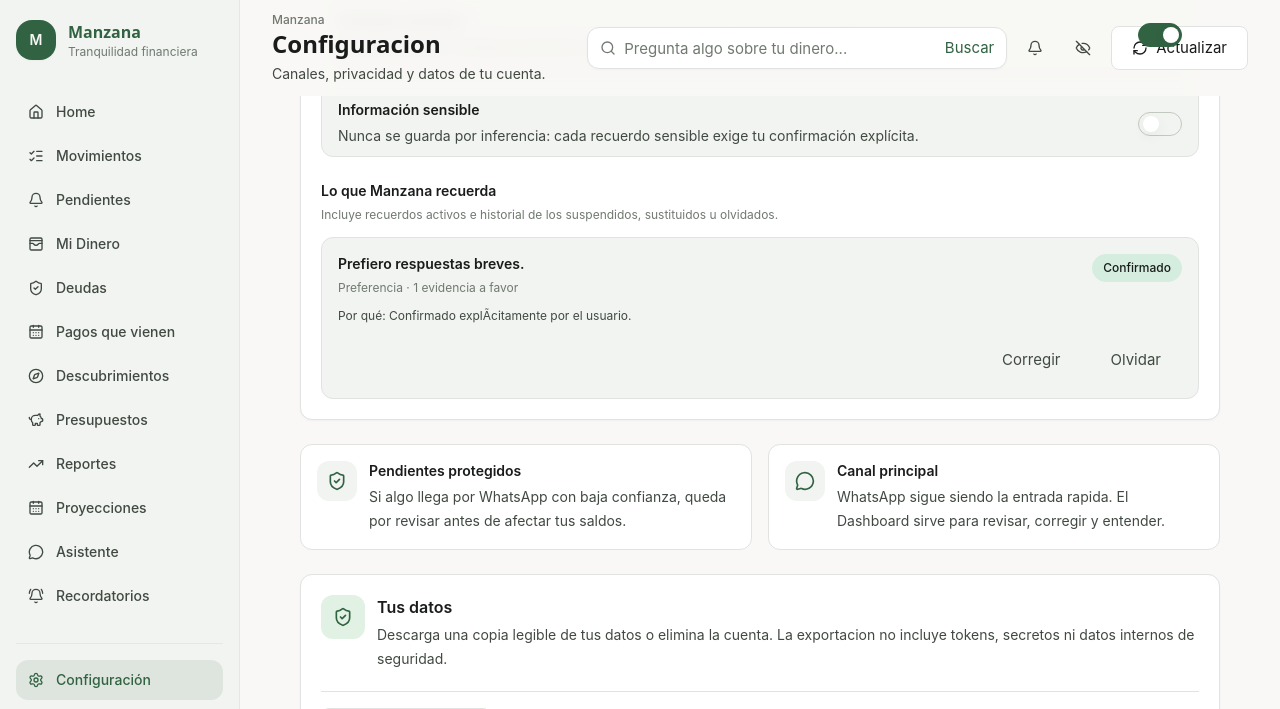
Test: settings reminders › muestra, explica y permite olvidar un recuerdo gobernado
(page scrolled)
Expected: the text "Prefiero respuestas breves." is shown, x1=338 y1=254 x2=524 y2=274
Click the button "Olvidar" at (1136,360), box x1=1090 y1=338 x2=1182 y2=382
(page scrolled)
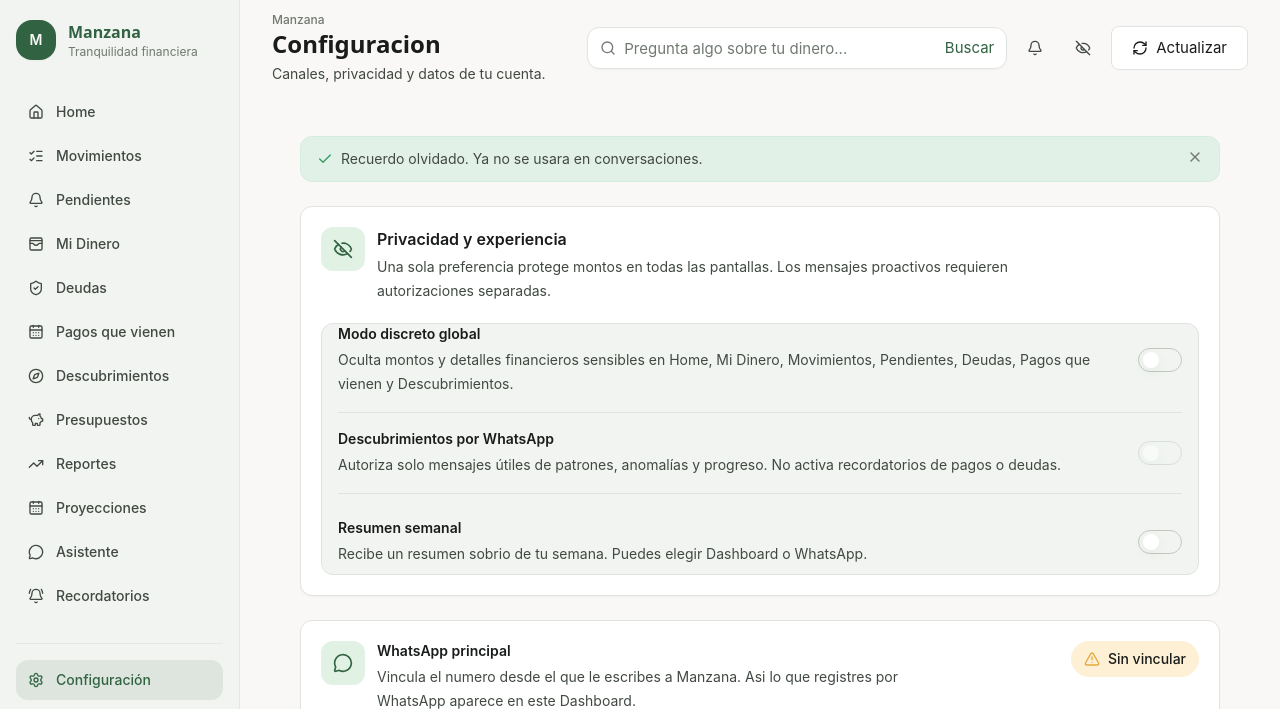
Now the text "Recuerdo olvidado. Ya no se usara en conversaciones." is shown, box x1=341 y1=149 x2=703 y2=169
